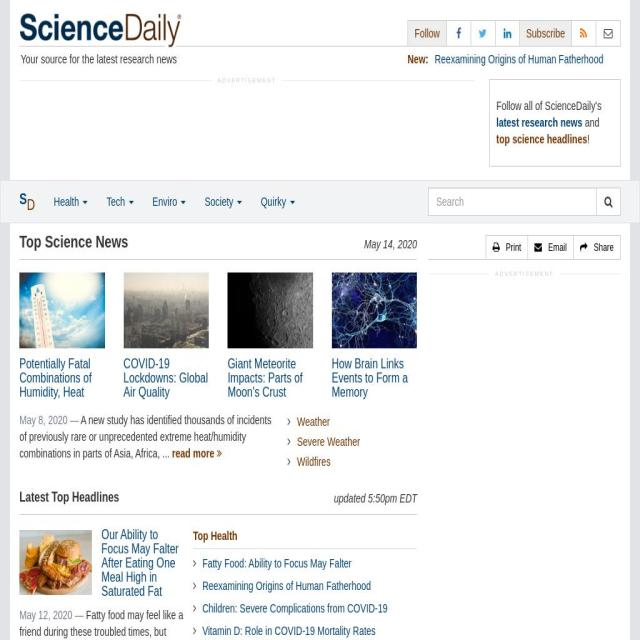button: (19, 272, 105, 400), (123, 272, 209, 400), (332, 272, 418, 400), (228, 272, 313, 400), (19, 530, 92, 595), (195, 181, 252, 222), (44, 181, 98, 222), (142, 181, 195, 222), (252, 181, 304, 222), (97, 181, 143, 222), (10, 181, 45, 222), (519, 20, 572, 46), (572, 235, 620, 260), (527, 235, 574, 260), (486, 235, 528, 260), (407, 20, 447, 46)
field: (428, 187, 597, 216)
heading: (102, 528, 180, 599), (19, 357, 105, 400), (123, 357, 209, 400), (332, 357, 418, 400), (228, 357, 313, 400)
image: (19, 273, 105, 349), (123, 273, 209, 349), (332, 273, 418, 349), (228, 273, 313, 349), (19, 12, 182, 48), (19, 530, 92, 595)
link: (434, 102, 620, 116), (202, 602, 387, 616), (434, 169, 618, 183), (434, 86, 622, 99), (434, 202, 608, 216), (202, 624, 376, 638), (434, 69, 604, 83), (434, 136, 616, 149), (202, 579, 371, 593), (434, 152, 602, 166), (434, 119, 594, 133), (434, 52, 584, 66), (202, 557, 352, 571), (434, 186, 592, 199), (497, 132, 588, 146), (497, 116, 582, 129), (297, 435, 361, 449), (192, 529, 238, 543), (172, 447, 215, 461), (297, 415, 331, 429), (297, 455, 331, 469), (406, 52, 426, 66)
text: (428, 285, 621, 640), (19, 92, 474, 166), (20, 413, 272, 461), (19, 608, 183, 640), (21, 51, 217, 67), (19, 230, 129, 253), (333, 490, 418, 508), (496, 99, 602, 113), (20, 488, 120, 502), (19, 608, 84, 622), (19, 413, 79, 428), (363, 236, 418, 252), (488, 269, 560, 277), (212, 76, 282, 83), (204, 195, 237, 208), (54, 195, 82, 208), (152, 195, 180, 208), (260, 195, 288, 208), (106, 195, 128, 208), (593, 242, 614, 253), (582, 116, 599, 129), (547, 242, 567, 253), (506, 242, 522, 253), (26, 197, 36, 213), (19, 191, 27, 207), (425, 52, 429, 66), (587, 132, 589, 146)
